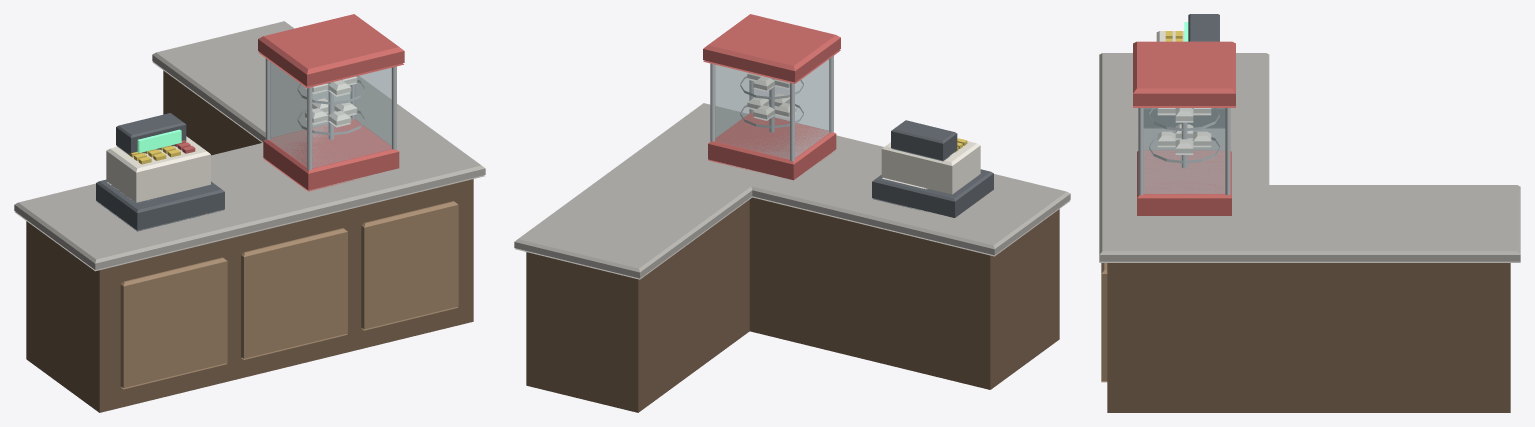
Rendered from sf_snack_counter_v2.glb.
3 renders of one model, left to right at view 1: azimuth 30°, elevation 25°; view 2: azimuth 150°, elevation 25°; view 3: azimuth 270°, elevation 25°, orthographic. The views are drawn at different scales.
Parts seen in each view (by area): view 1: SnackCounterPure3D_Root, SnackCounterPure3D_Anim; view 2: SnackCounterPure3D_Root, SnackCounterPure3D_Anim; view 3: SnackCounterPure3D_Root, SnackCounterPure3D_Anim.
Part boxes in pixels (x1=…): SnackCounterPure3D_Root: x1=14, y1=14, x2=485, y2=412; SnackCounterPure3D_Anim: x1=297, y1=76, x2=364, y2=139; SnackCounterPure3D_Root: x1=514, y1=14, x2=1070, y2=412; SnackCounterPure3D_Anim: x1=740, y1=73, x2=803, y2=132; SnackCounterPure3D_Root: x1=1099, y1=14, x2=1520, y2=412; SnackCounterPure3D_Anim: x1=1149, y1=108, x2=1219, y2=168.
Size of the model in its own units: 2.4 by 1.64 by 2.13.
